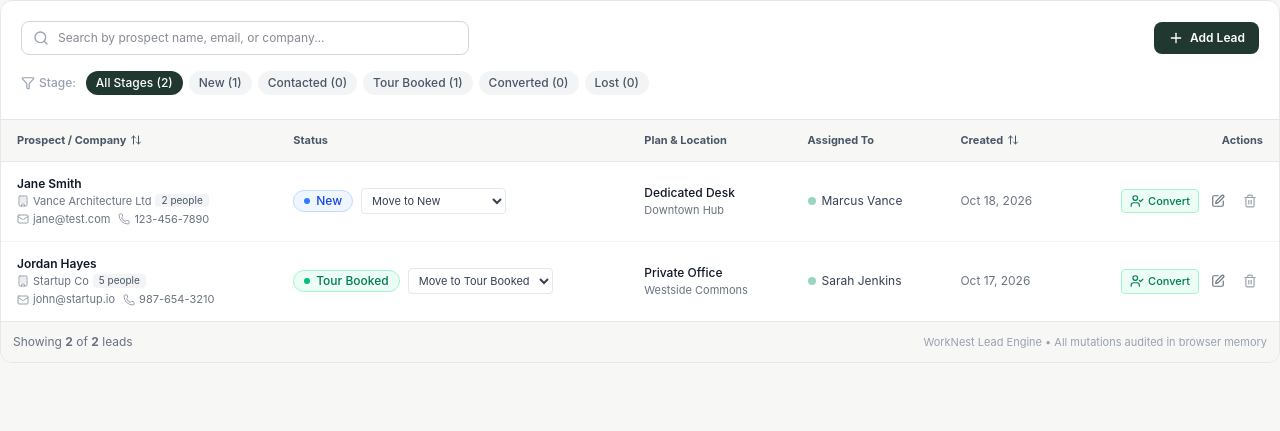
Scenario: LeadsTable › renders empty state when no leads match
Type "NonExistentCompany" into the field with placeholder "Search by prospect name, email, or company..." at (245, 38), box [21,21,469,55]
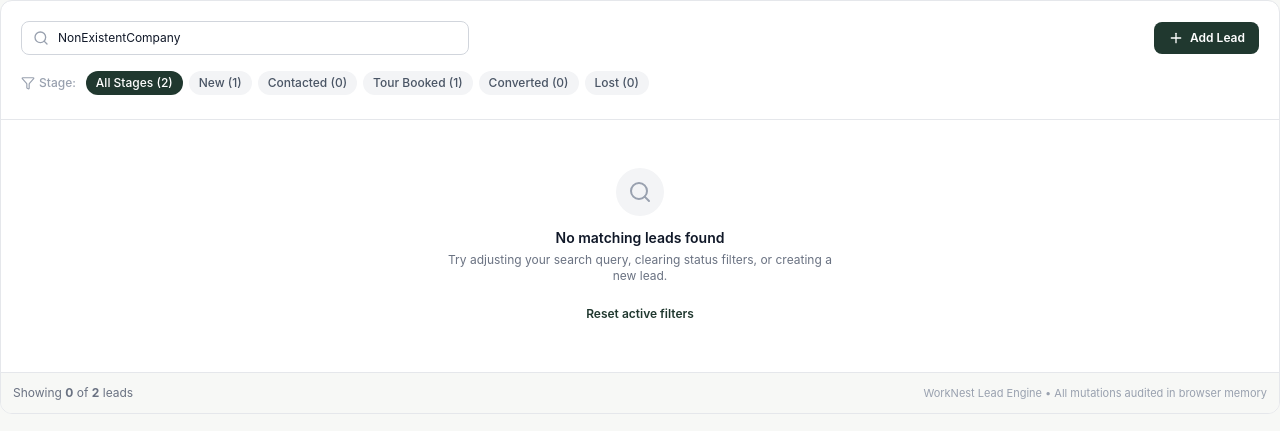
Now the heading "No matching leads found" is shown, box [556,229,724,246]
